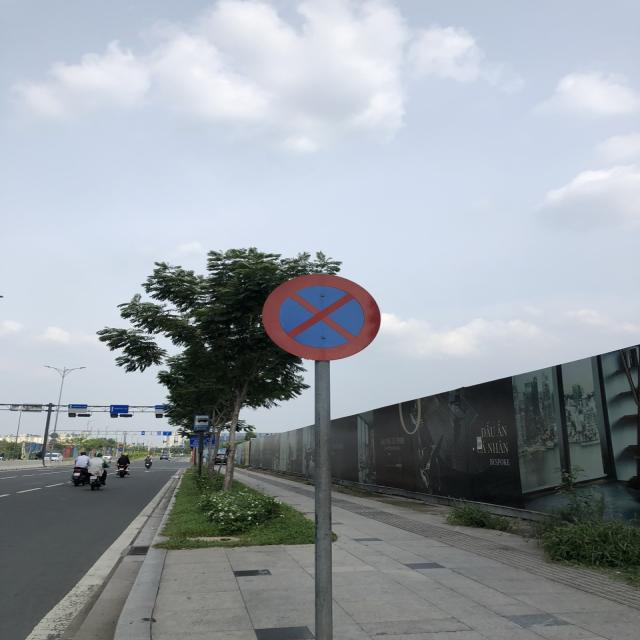Bien bao cam dung xe va do xe: (254, 262, 390, 362)
